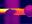Hotspot: (0, 9, 8, 14)
